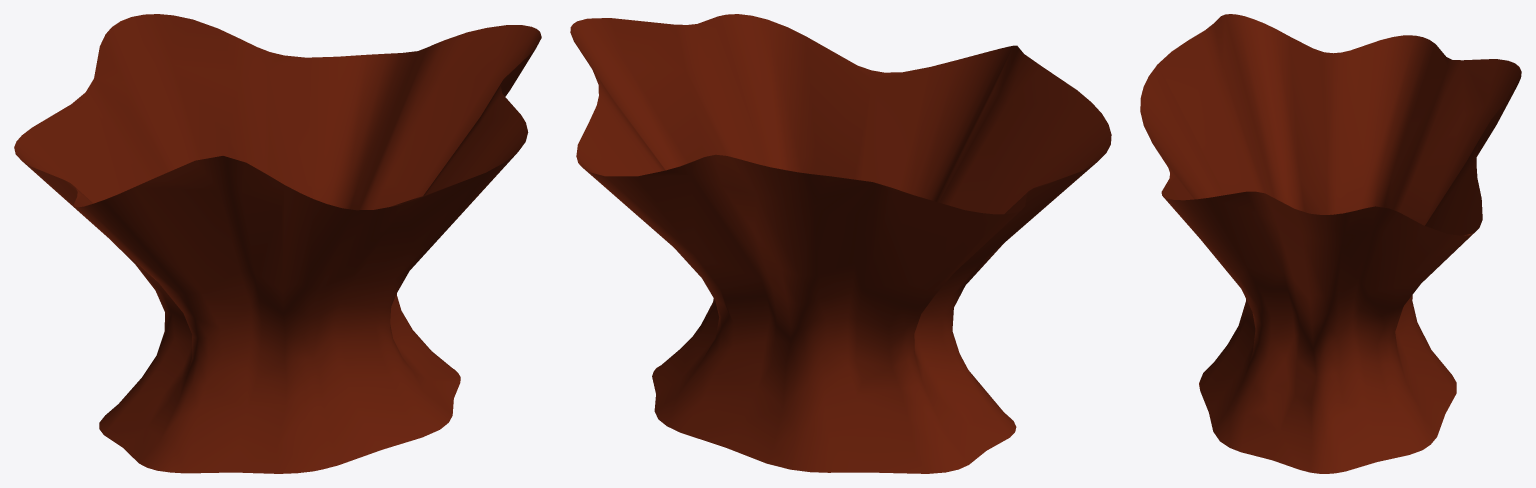
Rendered from loot-bag-lining.obj.
3 renders of one model, left to right at view 1: azimuth 30°, elevation 25°; view 2: azimuth 150°, elevation 25°; view 3: azimuth 270°, elevation 25°, orthographic. The views are drawn at different scales.
Visible parts, largest first — view 1: Lining; view 2: Lining; view 3: Lining.
Boxes of the visible parts, x1,y1,x2,y2 form: Lining: (14,14,541,473); Lining: (570,14,1111,473); Lining: (1140,14,1521,473).
Size of the model in its own units: 1.4 by 0.9097 by 1.01.
